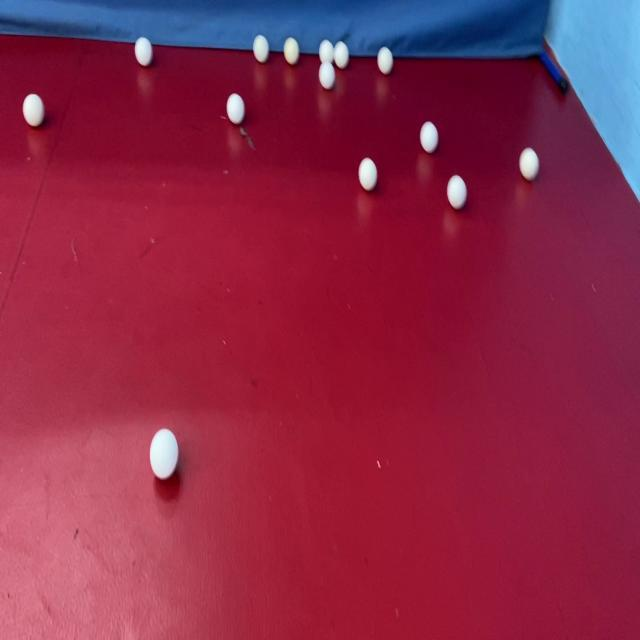ping-pong-ball: (147, 427, 181, 483), (516, 140, 542, 187), (21, 88, 45, 133), (418, 116, 441, 157), (224, 89, 248, 128), (445, 172, 468, 211), (132, 32, 155, 69), (357, 154, 378, 192), (375, 42, 395, 78), (281, 36, 302, 68), (252, 34, 272, 66), (318, 62, 338, 92), (318, 36, 336, 66), (334, 40, 351, 70)
